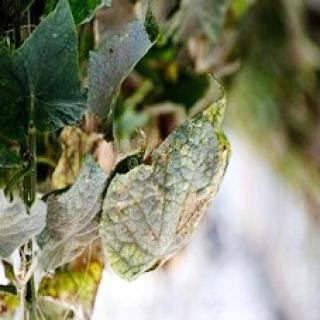grey mildew: (130, 111, 216, 291), (51, 166, 131, 256), (95, 32, 143, 114)
